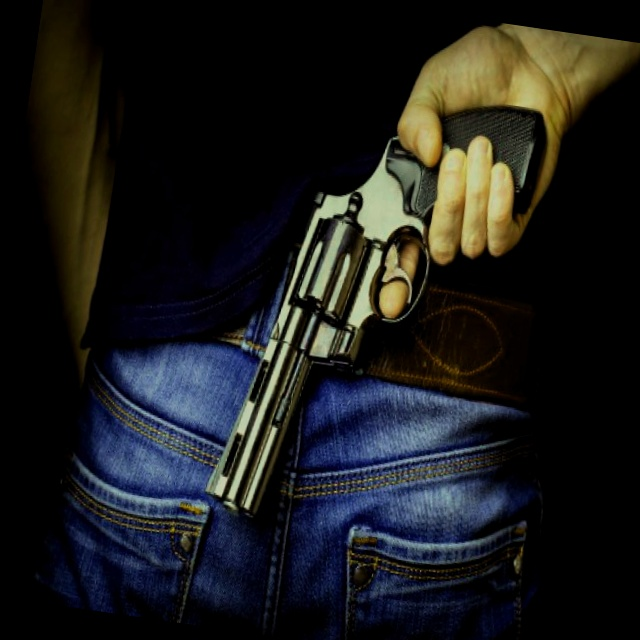gun: (202, 59, 558, 556)
